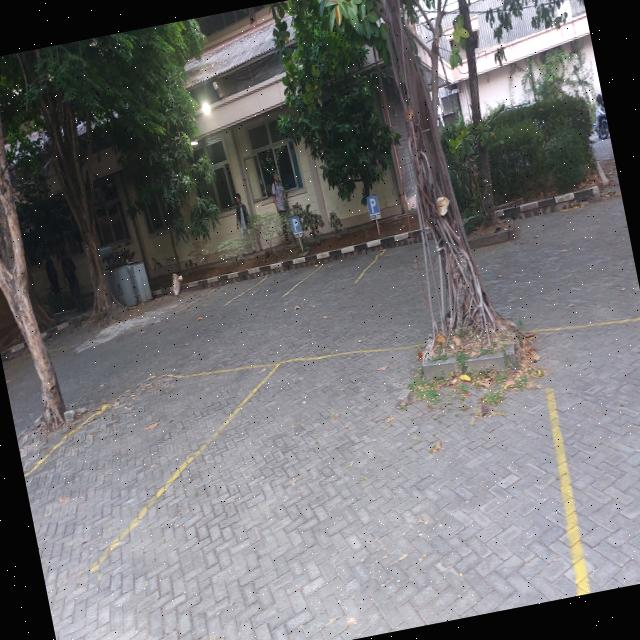empty: (92, 346, 424, 591), (24, 360, 285, 571), (538, 319, 640, 595), (285, 248, 388, 293), (223, 265, 325, 306), (351, 240, 439, 287)
